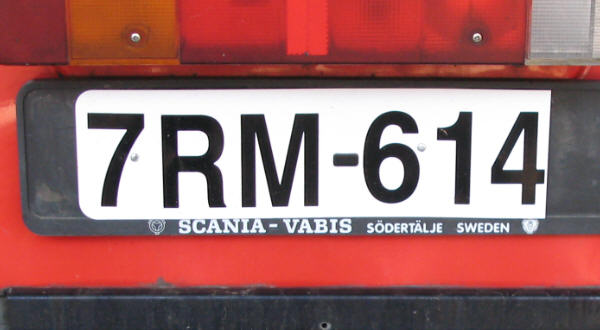license_plate: (76, 86, 554, 222)
